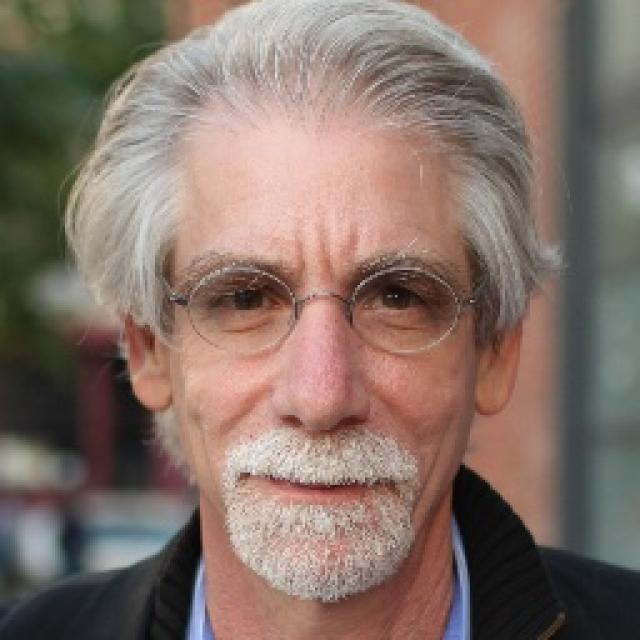earlobe: (474, 318, 524, 418), (124, 314, 176, 410)
